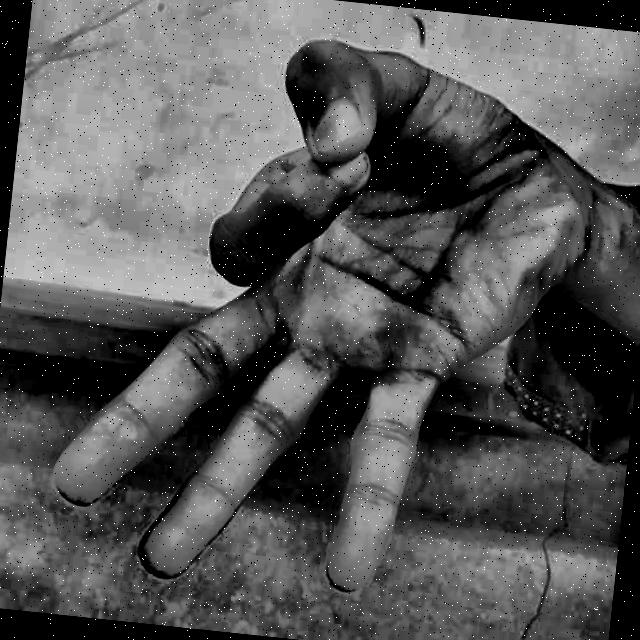Fa: (29, 4, 625, 640)
